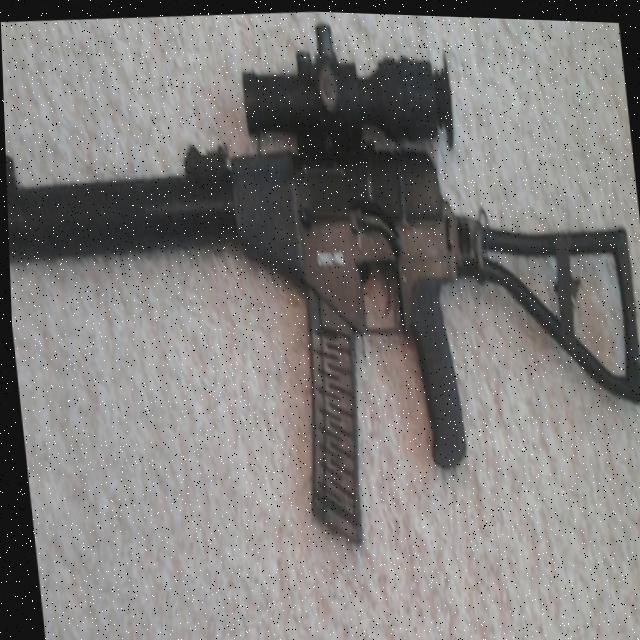firearm: (0, 0, 640, 568)
